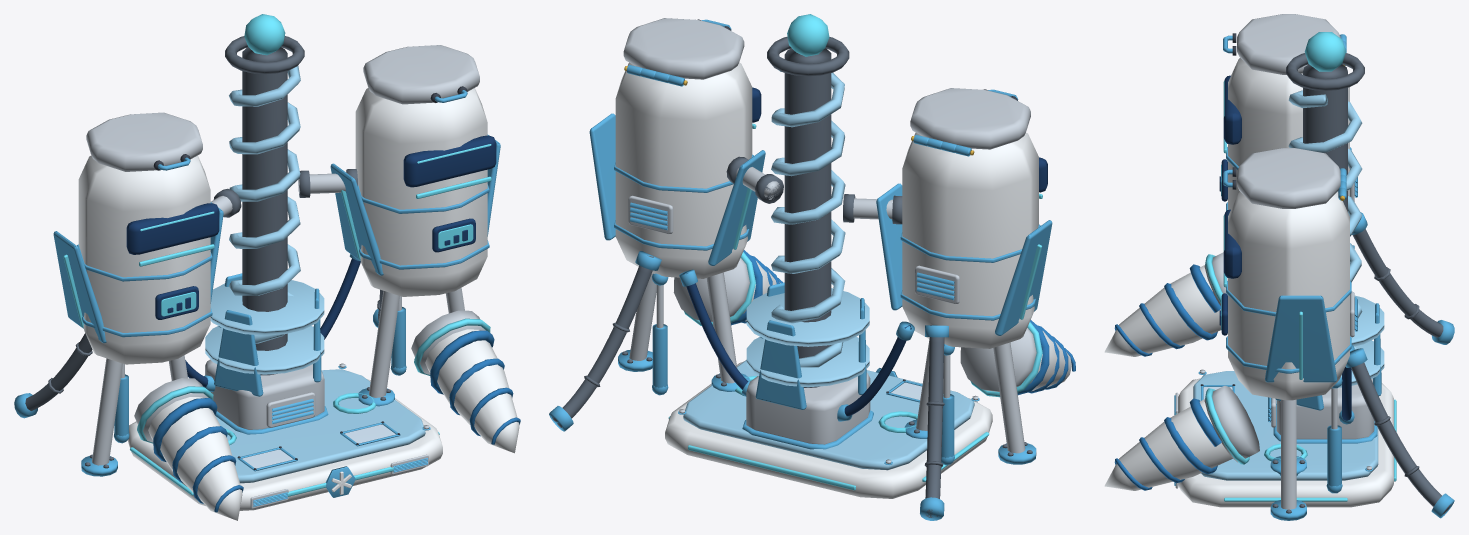
The model's file is IceDrill_T3.fbx.
3 views of the same model, side by side, from view 1: azimuth 30°, elevation 25°; view 2: azimuth 150°, elevation 25°; view 3: azimuth 270°, elevation 25° (orthographic). The views are drawn at different scales.
Visible parts, largest first — view 1: IceDrillT3Coil, IceDrillT3PodA, IceDrillT3PodB, IceDrillT3Deck, IceDrillT3BitA, IceDrillT3BitB, IceDrillT3PodALid, IceDrillT3PodBLid, IceDrillT3Cables, IceDrillT3PodALegs, IceDrillT3PodBLegs, IceDrillT3PodAGlow (+3 smaller); view 2: IceDrillT3Coil, IceDrillT3PodA, IceDrillT3PodB, IceDrillT3Deck, IceDrillT3Cables, IceDrillT3PodALid, IceDrillT3PodBLid, IceDrillT3PodBLegs, IceDrillT3PodALegs, IceDrillT3BitA, IceDrillT3DeckGlow, IceDrillT3CoilGlow (+3 smaller); view 3: IceDrillT3PodB, IceDrillT3Coil, IceDrillT3Deck, IceDrillT3PodA, IceDrillT3BitB, IceDrillT3BitA, IceDrillT3Cables, IceDrillT3PodBLid, IceDrillT3PodALid, IceDrillT3PodBLegs, IceDrillT3CoilGlow, IceDrillT3PodBGlow (+2 smaller).
Boxes of the visible parts, x1,y1,x2,y2 form: IceDrillT3Coil: (205,36,328,434); IceDrillT3PodA: (53,155,223,442); IceDrillT3PodB: (330,88,500,374); IceDrillT3Deck: (127,363,442,510); IceDrillT3BitA: (148,397,243,520); IceDrillT3BitB: (425,329,520,453); IceDrillT3PodALid: (86,112,202,171); IceDrillT3PodBLid: (363,45,479,104); IceDrillT3Cables: (14,169,383,418); IceDrillT3PodALegs: (81,355,187,476); IceDrillT3PodBLegs: (358,287,464,406); IceDrillT3PodAGlow: (63,211,214,443); IceDrillT3Coil: (742,36,873,449); IceDrillT3PodA: (876,132,1052,391); IceDrillT3PodB: (589,62,765,321); IceDrillT3Deck: (665,360,992,498); IceDrillT3Cables: (549,156,948,520); IceDrillT3PodALid: (910,88,1030,156); IceDrillT3PodBLid: (623,18,744,86); IceDrillT3PodBLegs: (618,272,749,395); IceDrillT3PodALegs: (904,339,1036,465); IceDrillT3BitA: (1017,320,1075,395); IceDrillT3DeckGlow: (668,376,989,490); IceDrillT3CoilGlow: (787,14,829,56); IceDrillT3PodB: (1204,192,1357,462); IceDrillT3Coil: (1268,53,1384,443); IceDrillT3Deck: (1174,369,1393,507); IceDrillT3PodA: (1204,58,1357,305); IceDrillT3BitB: (1104,398,1232,490); IceDrillT3BitA: (1104,264,1220,356); IceDrillT3Cables: (1339,212,1454,518); IceDrillT3PodBLid: (1223,148,1346,208); IceDrillT3PodALid: (1223,14,1346,74); IceDrillT3PodBLegs: (1270,376,1342,520); IceDrillT3CoilGlow: (1304,32,1346,71); IceDrillT3PodBGlow: (1205,215,1302,464).
Bounding box in the file's own units: 396 × 376 × 284.
